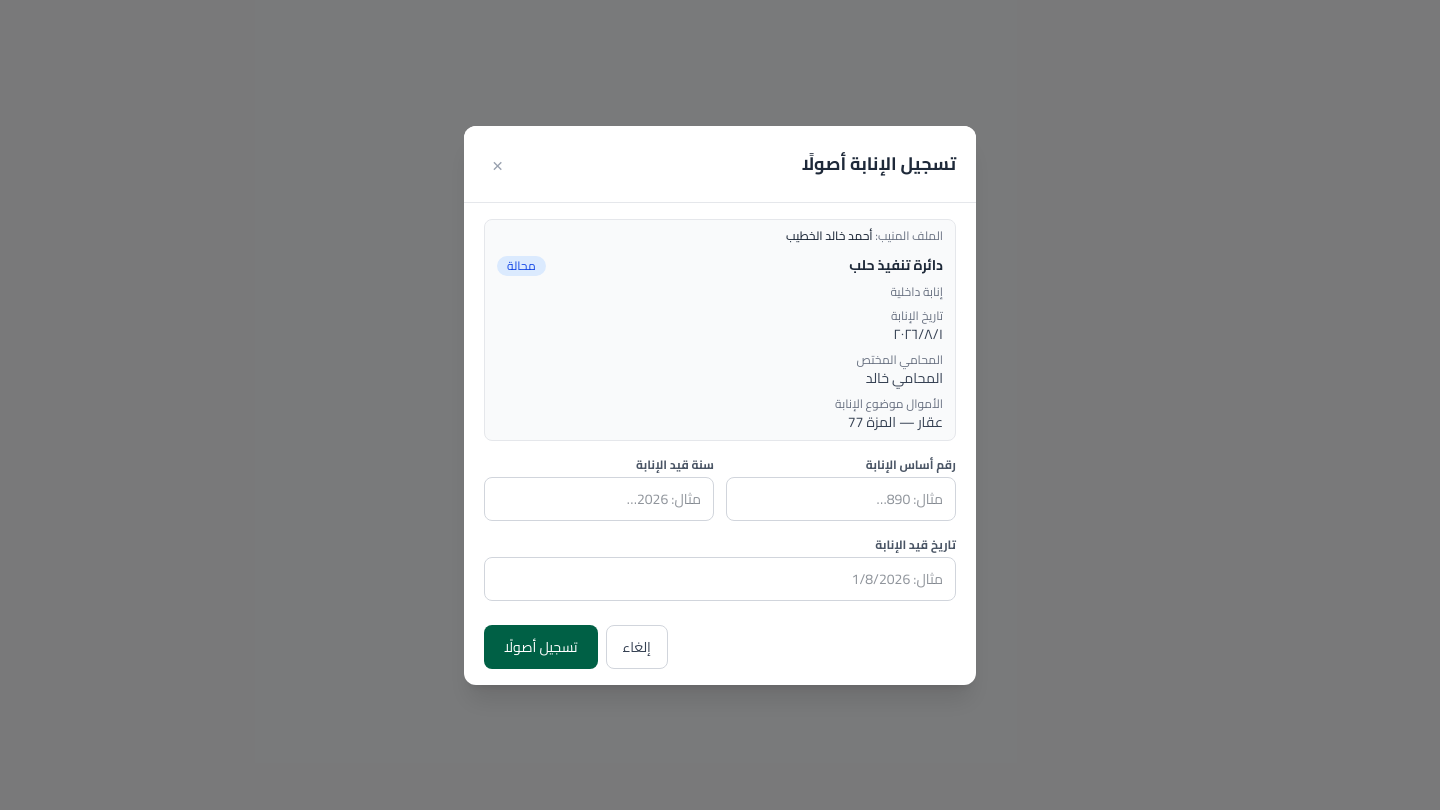
Test case: RegisterDelegationModal › يتطلب كل الحقول الثلاثة
Click the button "تسجيل أصولًا" at point(541, 646), box [484,624,598,668]
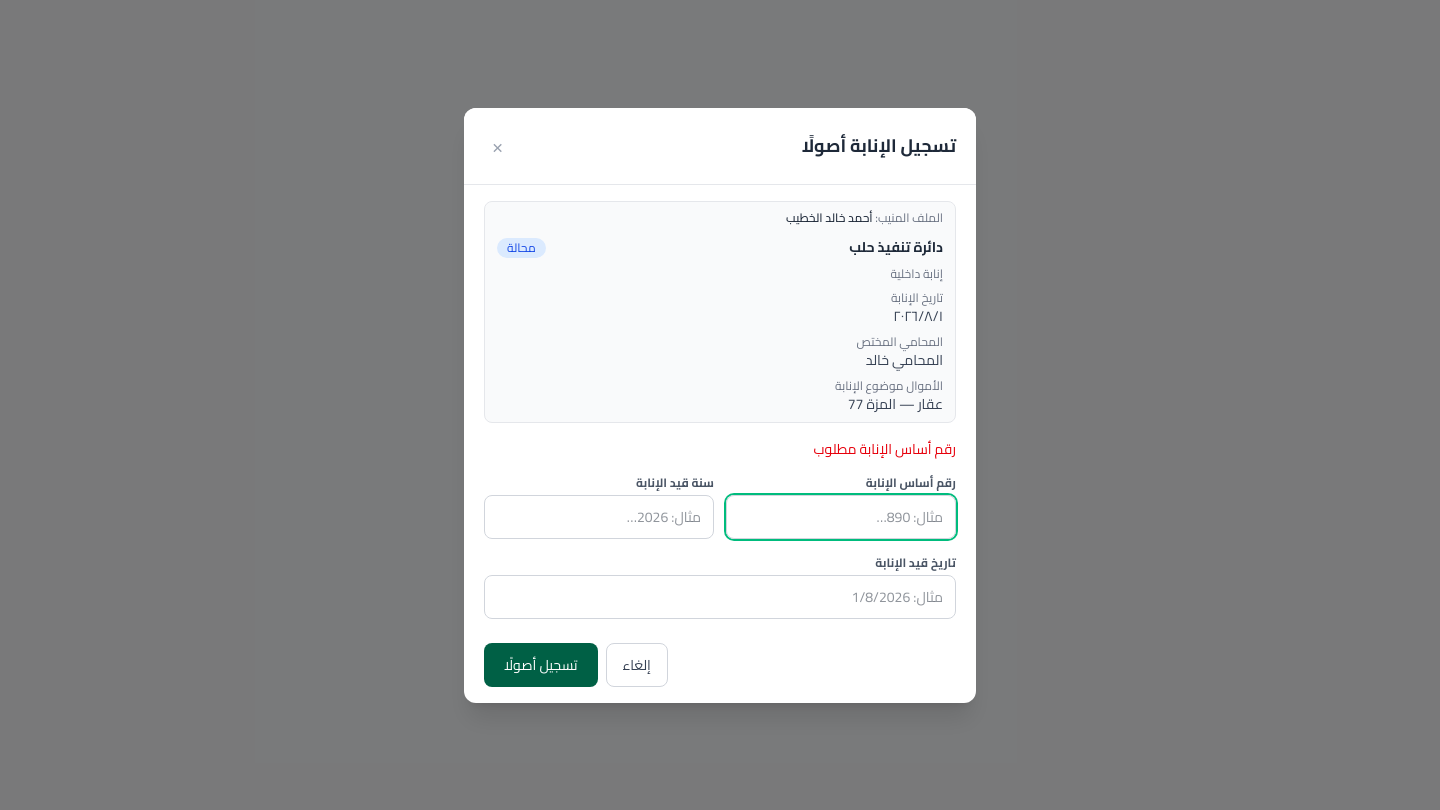
Result: the message reads "رقم أساس الإنابة مطلوب" at [814,436,956,462]
Type "890" into the field labelled "رقم أساس الإنابة" at point(841, 516), box [726,494,956,538]
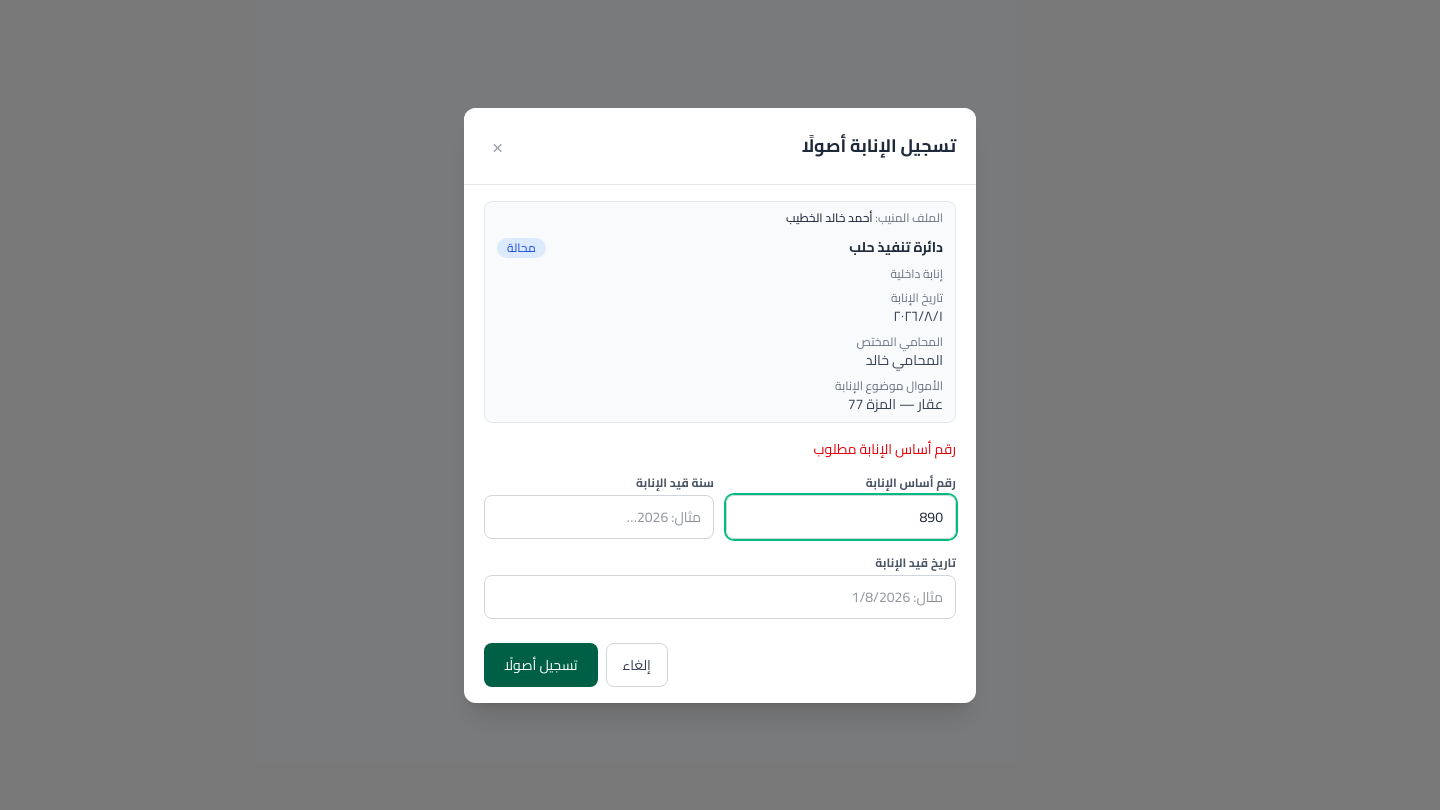
Click the button "تسجيل أصولًا" at point(541, 664), box [484,642,598,686]
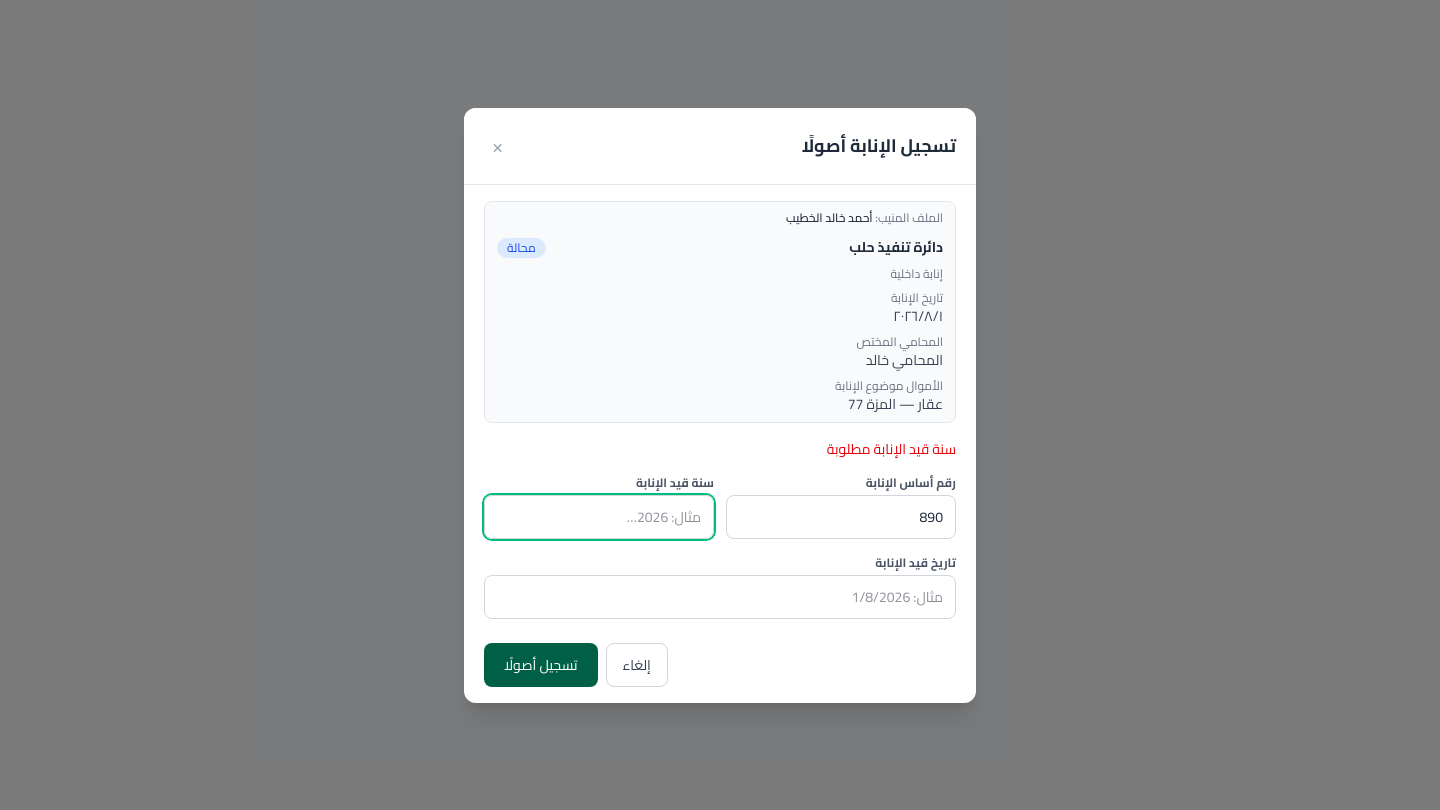
Result: the message reads "سنة قيد الإنابة مطلوبة" at [827,436,956,462]
Type "2026" into the field labelled "سنة قيد الإنابة" at point(599, 516), box [484,494,714,538]
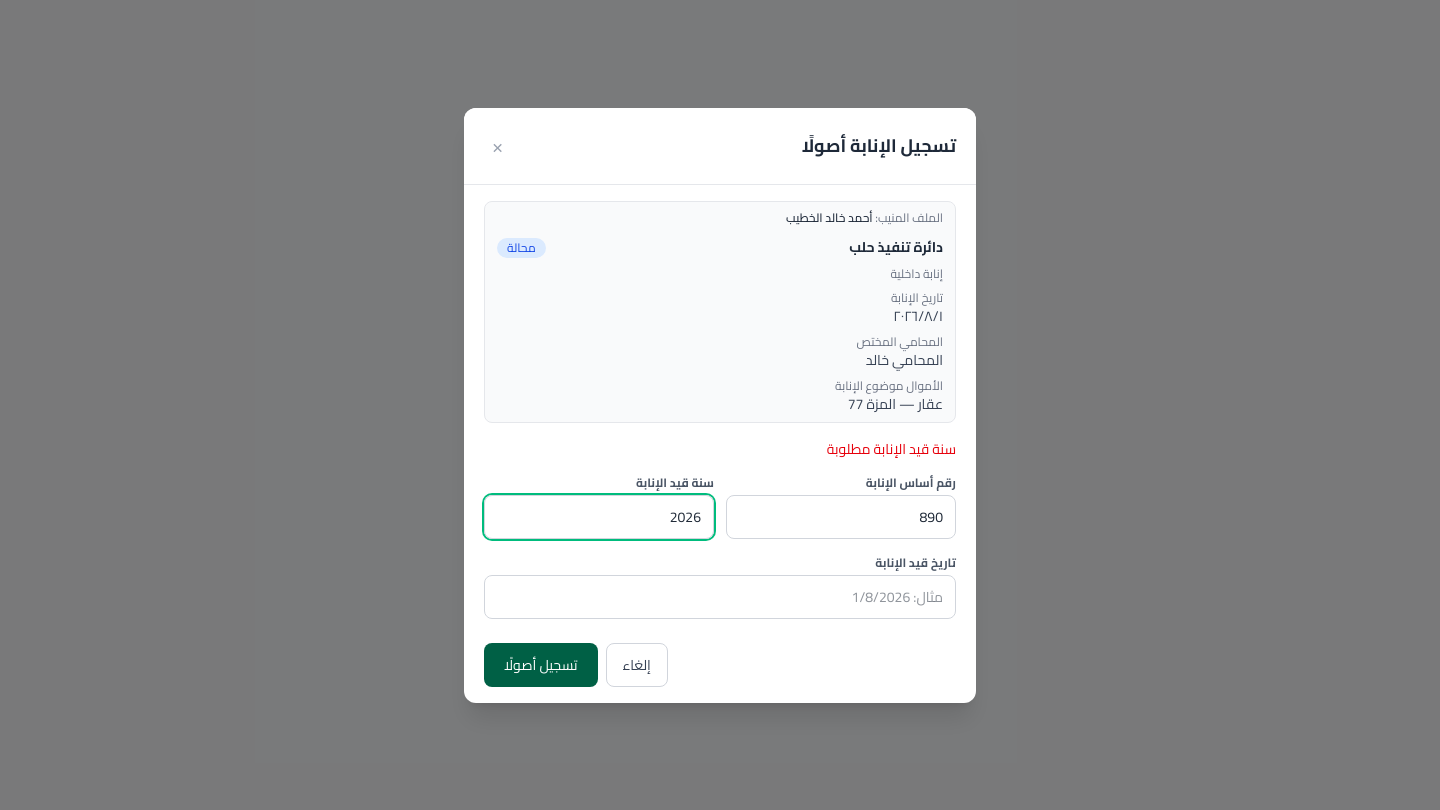
Click the button "تسجيل أصولًا" at point(541, 664), box [484,642,598,686]
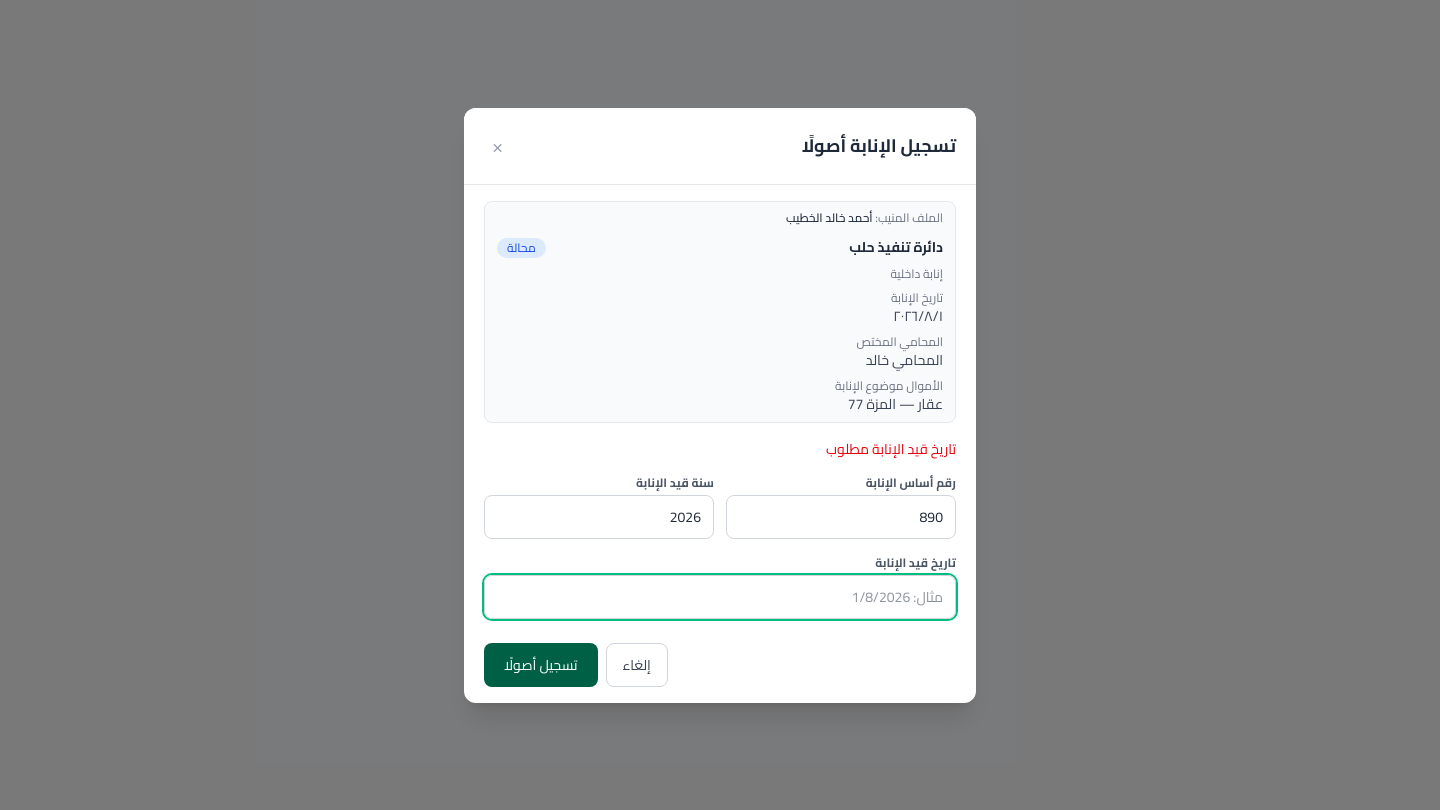
Result: the message reads "تاريخ قيد الإنابة مطلوب" at [826,436,956,462]
